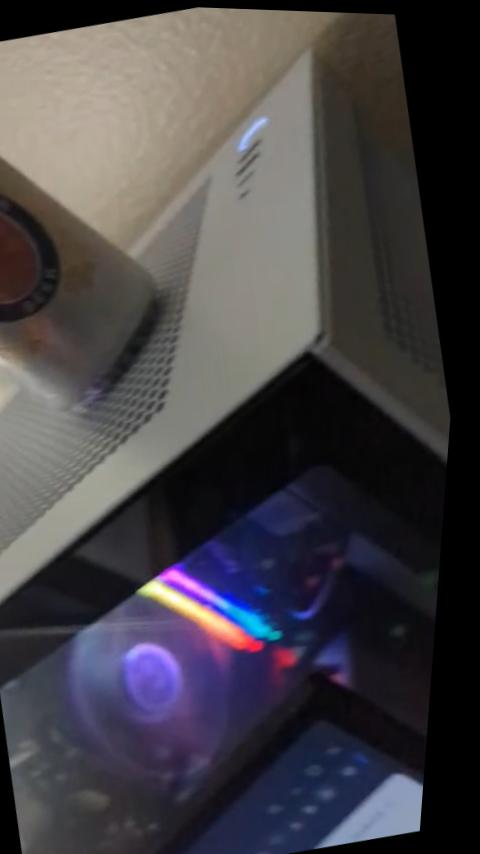metal: (3, 467, 388, 853), (0, 159, 154, 408)
